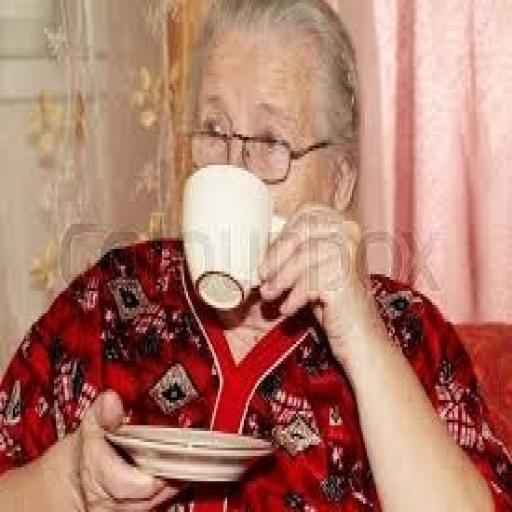drinking: (179, 162, 272, 311)
